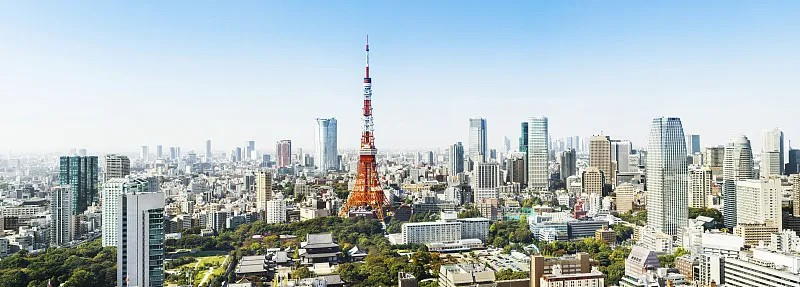Tokyo: (342, 28, 397, 229)
